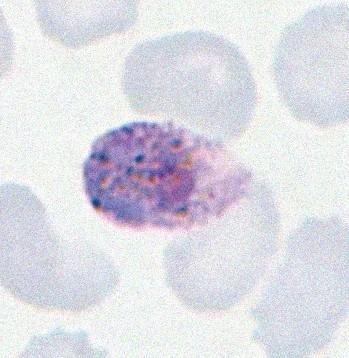Infected: (81, 119, 256, 230)
Uninfected: (165, 175, 282, 318), (0, 175, 117, 312), (125, 28, 257, 145), (258, 215, 349, 358), (273, 4, 349, 129)
